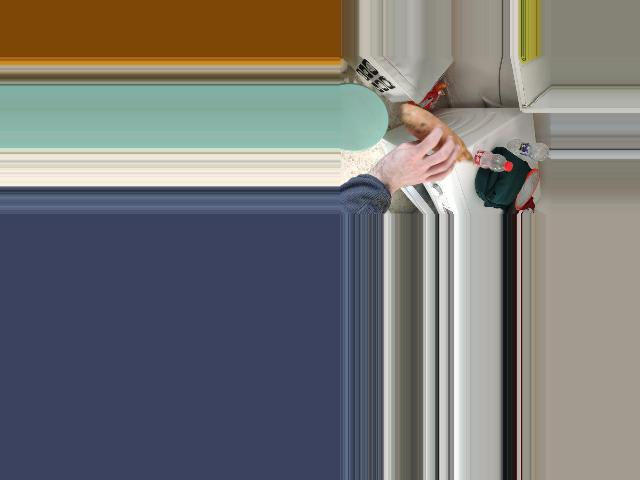sweet_potato: (410, 106, 470, 178)
